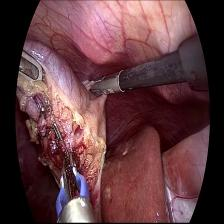Bipolar: (55, 151, 91, 224)
Grasper: (18, 50, 44, 87), (88, 71, 125, 94)
